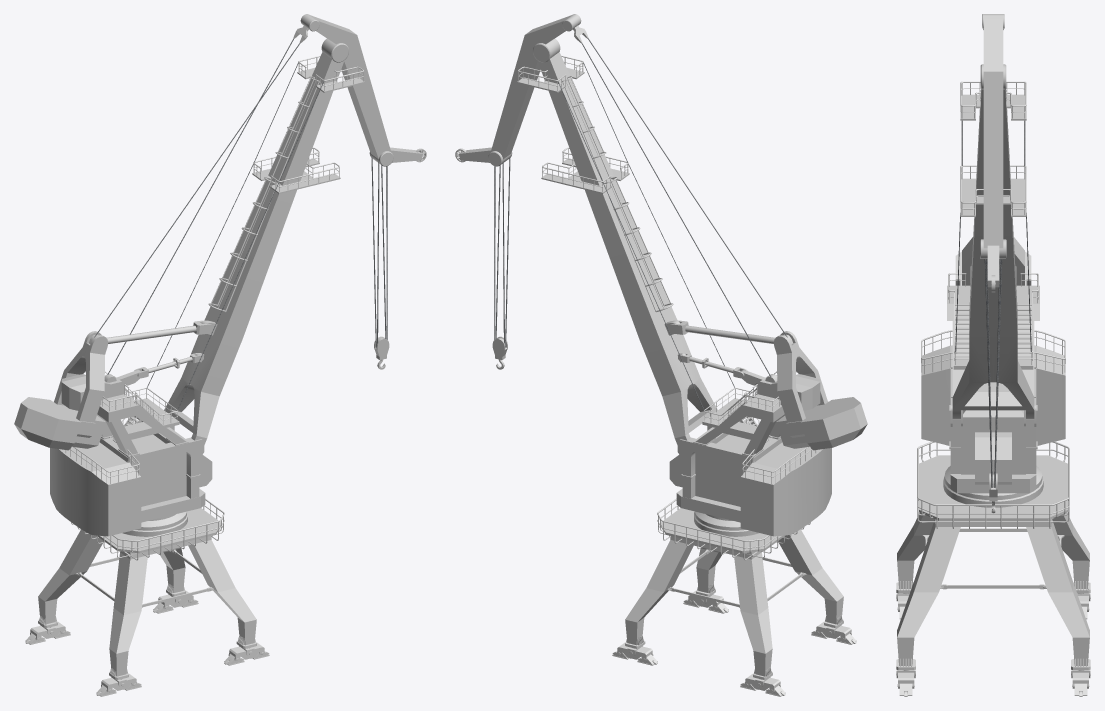
The model's file is PortCrane.fbx.
3 renders of one model, left to right at view 1: azimuth 30°, elevation 25°; view 2: azimuth 150°, elevation 25°; view 3: azimuth 270°, elevation 25°, orthographic. The views are drawn at different scales.
Visible parts, largest first — view 1: Cube.086, Cube.001; view 2: Cube.086, Cube.001; view 3: Cube.086, Cube.001.
Boxes of the visible parts, box(x1,y1,x2,y2) form: Cube.086: box(14, 14, 426, 536); Cube.001: box(25, 498, 269, 696); Cube.086: box(455, 14, 867, 536); Cube.001: box(612, 498, 856, 696); Cube.086: box(921, 14, 1065, 513); Cube.001: box(896, 441, 1090, 696).
Size of the model in its own units: 59.45 by 82.29 by 19.89.
